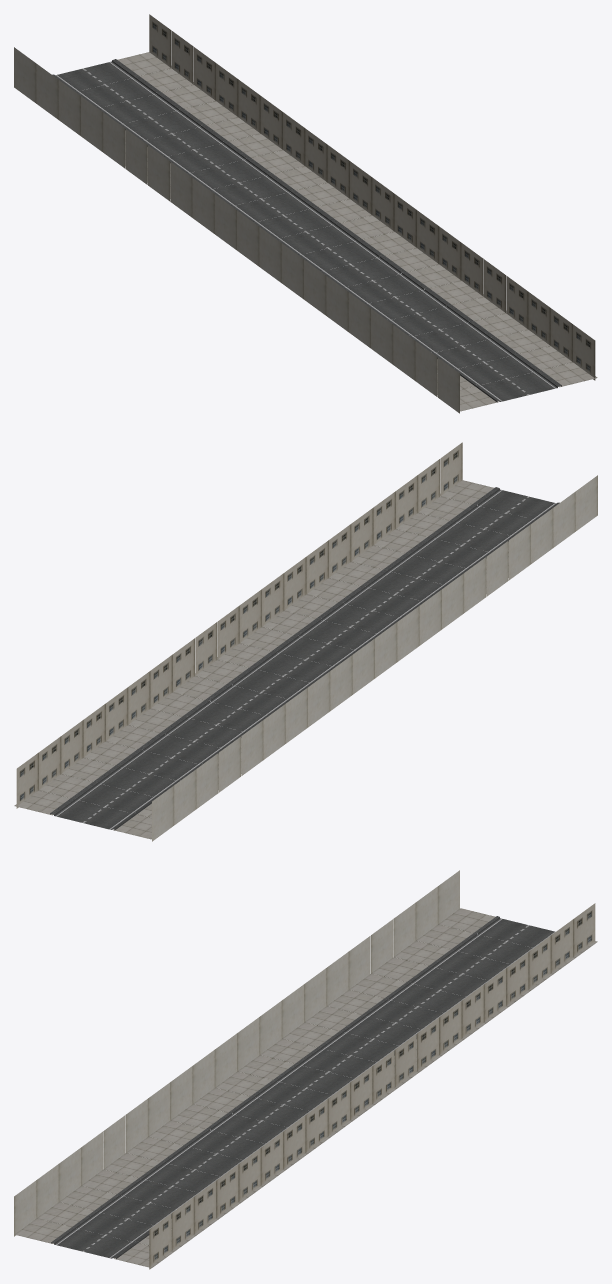
The model's file is road.glb.
3 renders of one model, top to bottom at view 1: azimuth 30°, elevation 25°; view 2: azimuth 150°, elevation 25°; view 3: azimuth 330°, elevation 25°, orthographic.
Visible parts, largest first — view 1: Plane.004; view 2: Plane.004; view 3: Plane.004.
Boxes of the visible parts, x1,y1,x2,y2 form: Plane.004: (14, 14, 597, 413); Plane.004: (14, 442, 597, 841); Plane.004: (14, 870, 597, 1269).
Size of the model in its own units: 28.63 by 8 by 160.
Materials: 5 (5 with a texture image).
